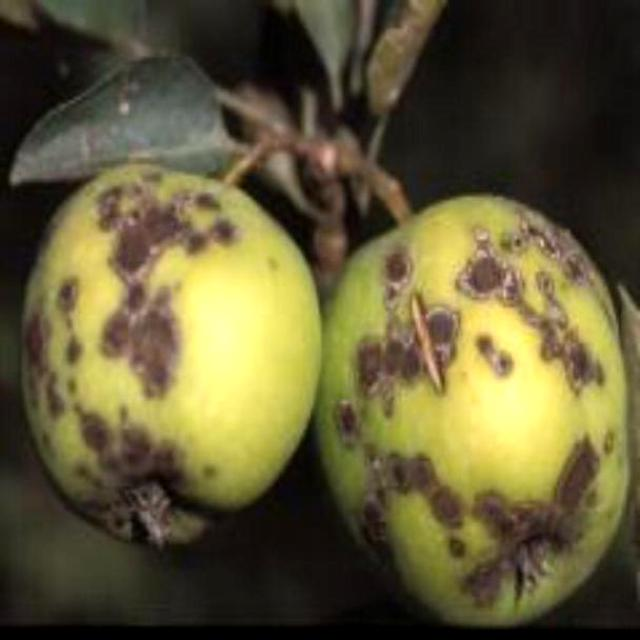SCAB: (337, 120, 621, 614), (5, 130, 323, 559)
